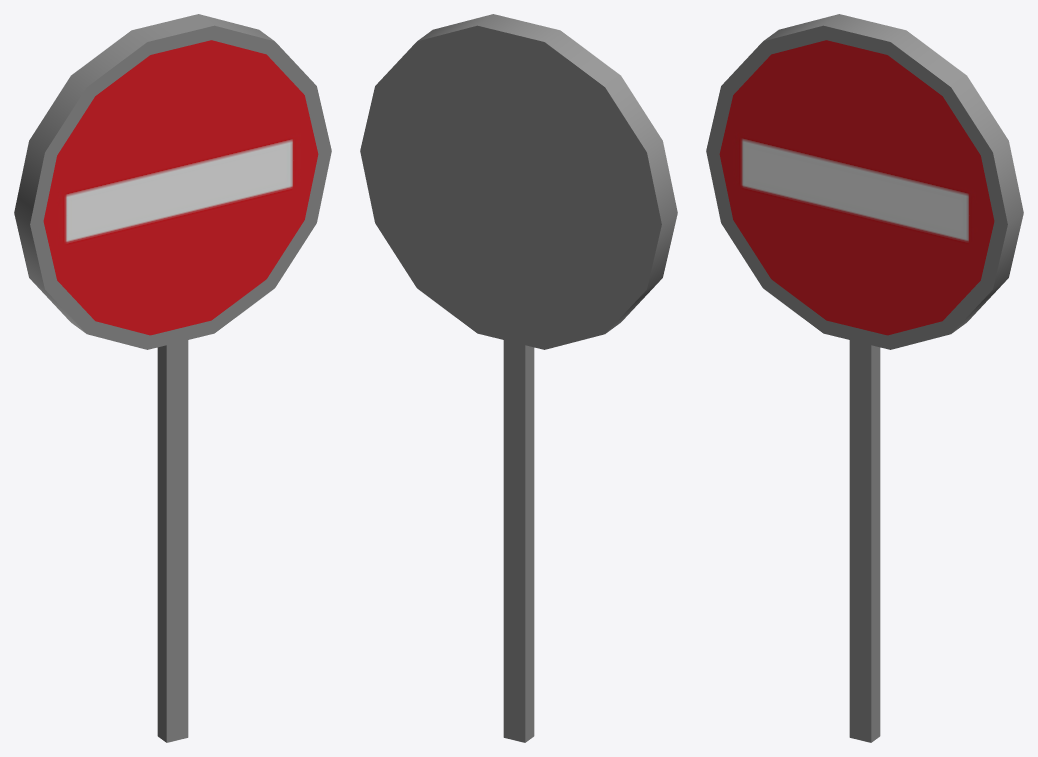
File: stop_sign.FBX
3 renders of one model, left to right at view 1: azimuth 30°, elevation 25°; view 2: azimuth 150°, elevation 25°; view 3: azimuth 330°, elevation 25°, orthographic.
Visible parts, largest first — view 1: stop_sign; view 2: stop_sign; view 3: stop_sign.
Part boxes in pixels (<box>): stop_sign: <box>14,14,331,742</box>; stop_sign: <box>360,14,677,742</box>; stop_sign: <box>706,14,1023,742</box>.
Bounding box in the file's own units: 63.63 × 143 × 5.82.
